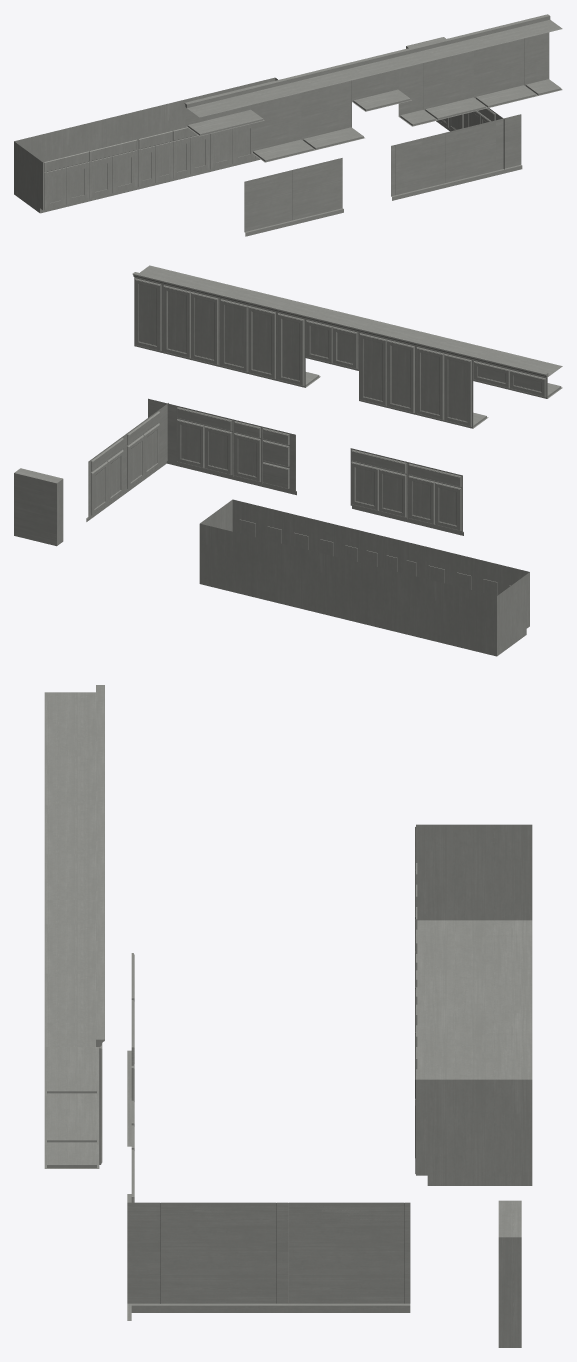
Rendered from 1860_kitchen_cabinets_bolder.gltf.
3 renders of one model, top to bottom at view 1: azimuth 30°, elevation 25°; view 2: azimuth 150°, elevation 25°; view 3: azimuth 270°, elevation 25°, orthographic. The views are drawn at different scales.
Visible parts, largest first — view 1: Box5855; view 2: Box5855; view 3: Box5855.
Boxes of the visible parts, <box> form: Box5855: <box>14,14,562,236</box>; Box5855: <box>14,265,562,656</box>; Box5855: <box>44,685,532,1347</box>.
Size of the model in its own units: 8.5 by 2.93 by 4.2.
1 material, 1 textured.
